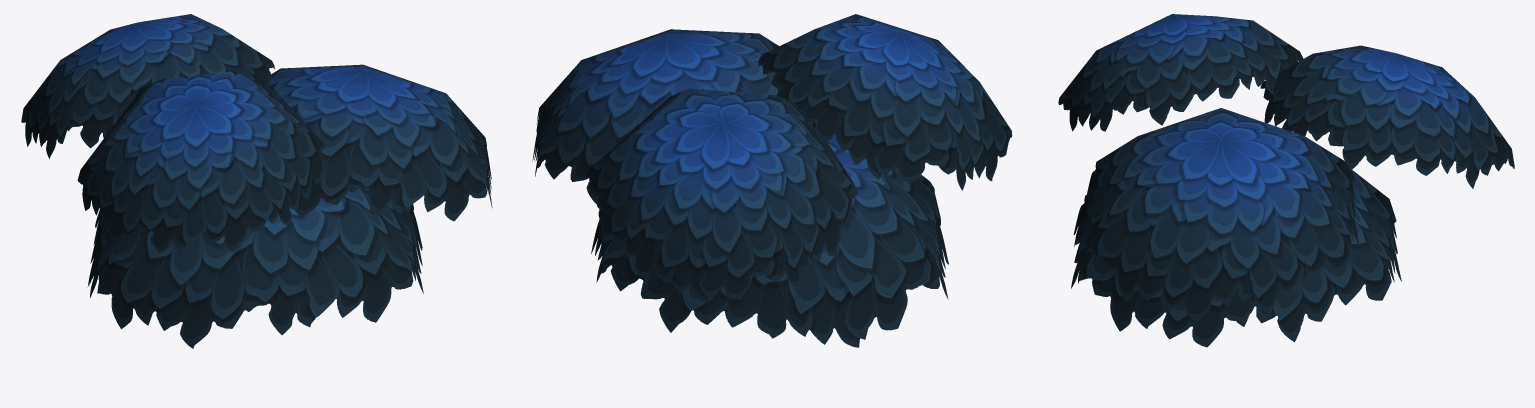
The model's file is Bush.FBX.
3 renders of one model, left to right at view 1: azimuth 30°, elevation 25°; view 2: azimuth 150°, elevation 25°; view 3: azimuth 270°, elevation 25°, orthographic. The views are drawn at different scales.
Parts seen in each view (by area): view 1: Bush; view 2: Bush; view 3: Bush.
Part boxes in pixels (left/top/right/bottom): Bush: left=21, top=14, right=492, bottom=348; Bush: left=532, top=14, right=1012, bottom=347; Bush: left=1058, top=14, right=1514, bottom=347.
Size of the model in its own units: 85.77 by 50.55 by 85.32.
